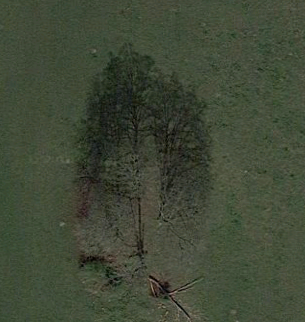tree: (67, 179, 208, 272)
